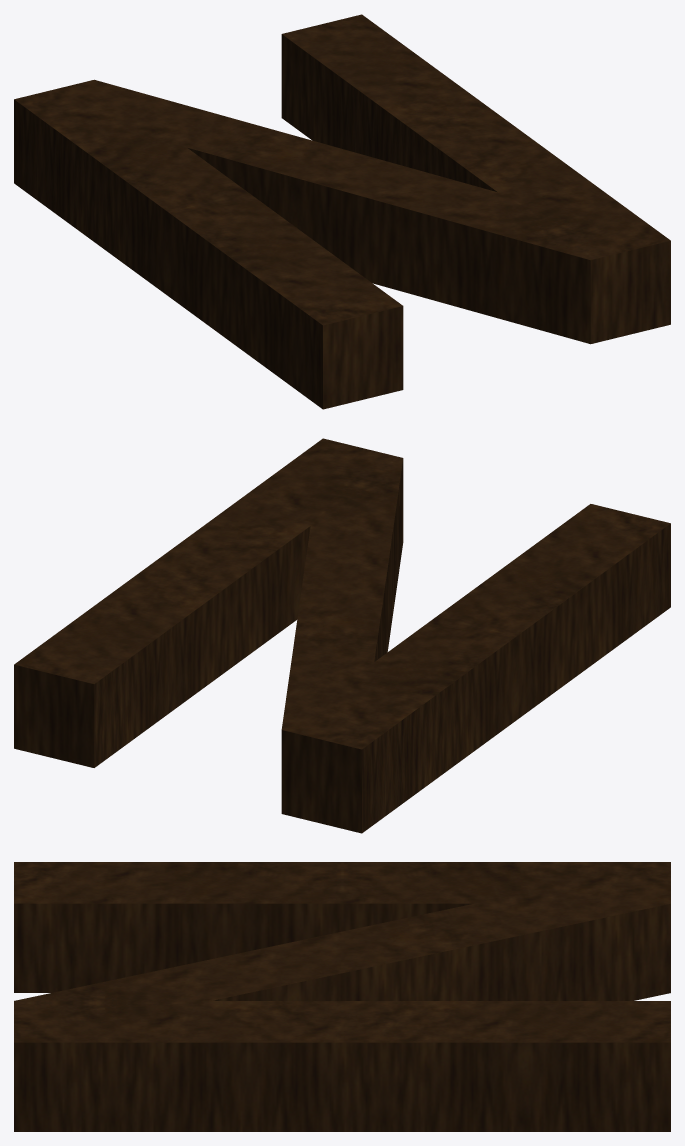
File: LetterN.obj
The picture shows the model from 3 angles, top to bottom: view 1: azimuth 30°, elevation 25°; view 2: azimuth 150°, elevation 25°; view 3: azimuth 270°, elevation 25°; orthographic projection. The views are drawn at different scales.
Parts seen in each view (by area): view 1: LetterN; view 2: LetterN; view 3: LetterN.
Part boxes in pixels (x1,y1,x2,y2): LetterN: [14, 14, 670, 409]; LetterN: [14, 438, 670, 833]; LetterN: [14, 862, 670, 1131].
Size of the model in its own units: 0.65 by 0.15 by 1.
